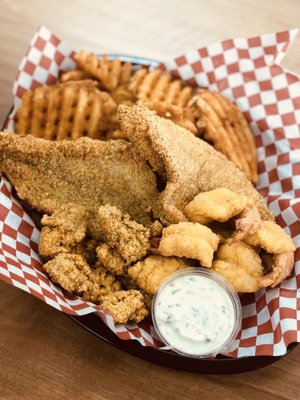curry: (2, 0, 300, 369)
